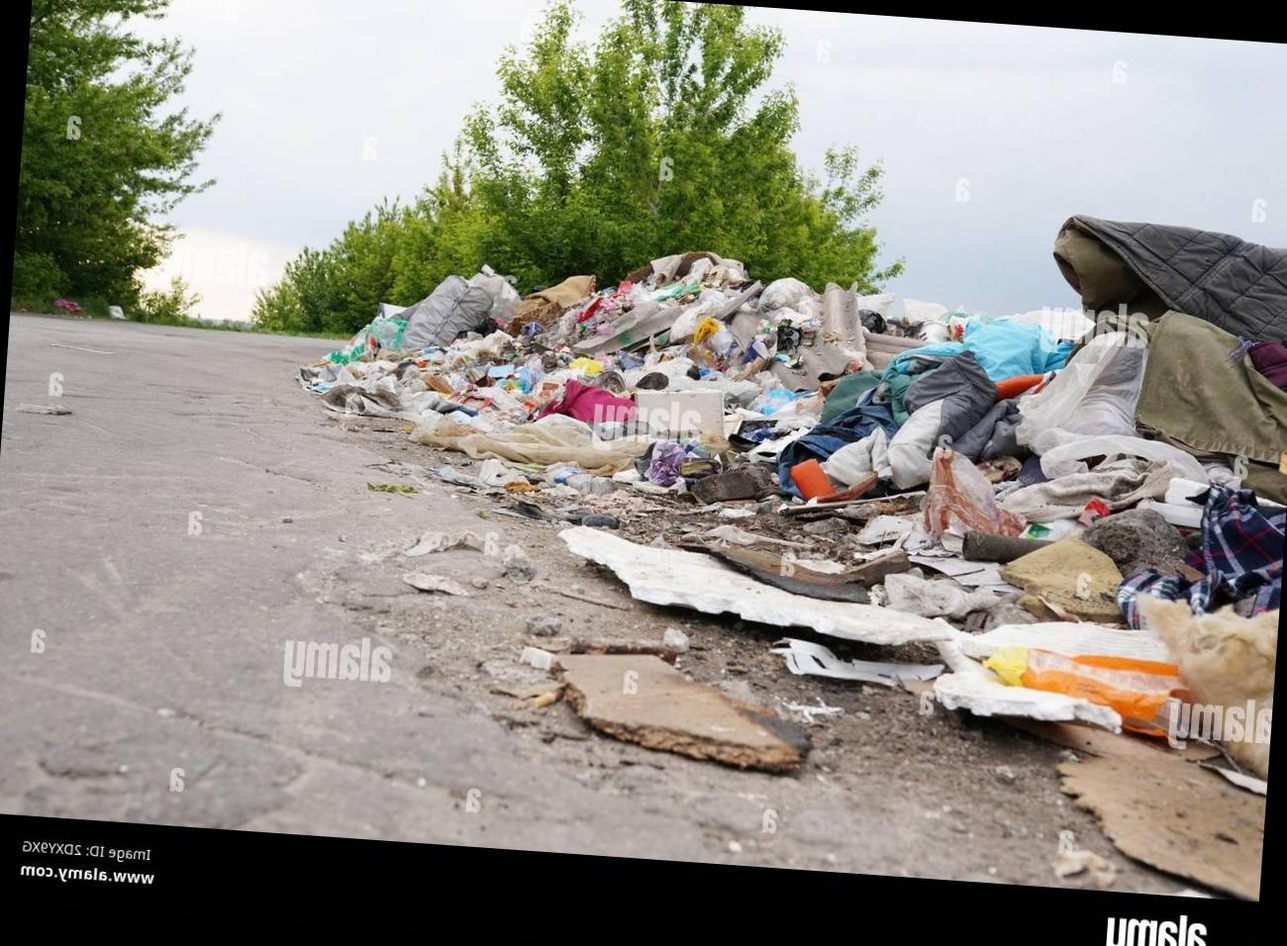road: (0, 316, 1204, 896)
sky: (749, 7, 1287, 312), (145, 0, 552, 319)
trash: (789, 329, 1285, 625), (414, 315, 800, 393), (457, 413, 653, 469), (709, 544, 878, 604), (542, 282, 660, 346), (400, 275, 492, 351), (715, 281, 762, 318)
